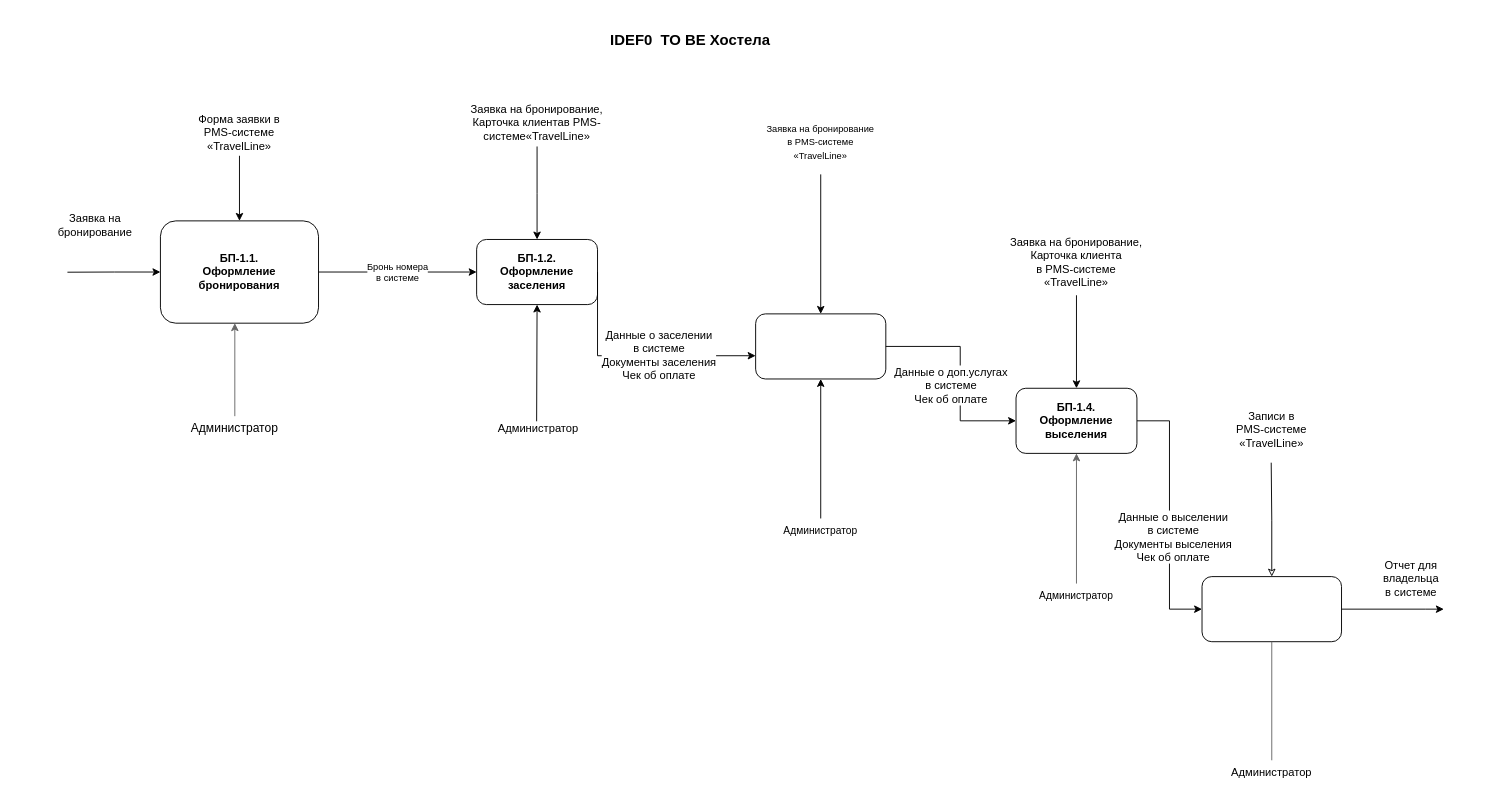
This 1496x799 diagram has some shape labels left out. Here are the shapes that lost their labels. From the top down, the box of each, then its label:
(755, 313, 886, 379): БП-1.3. Предоставление доп.услуг
(1201, 576, 1342, 642): БП-1.5. Формирование отчетности хостела
